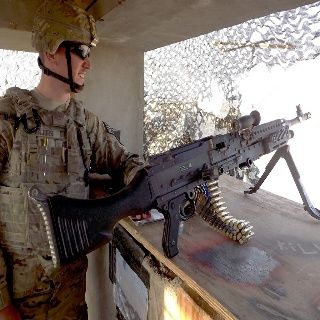rifle: (27, 102, 320, 270)
